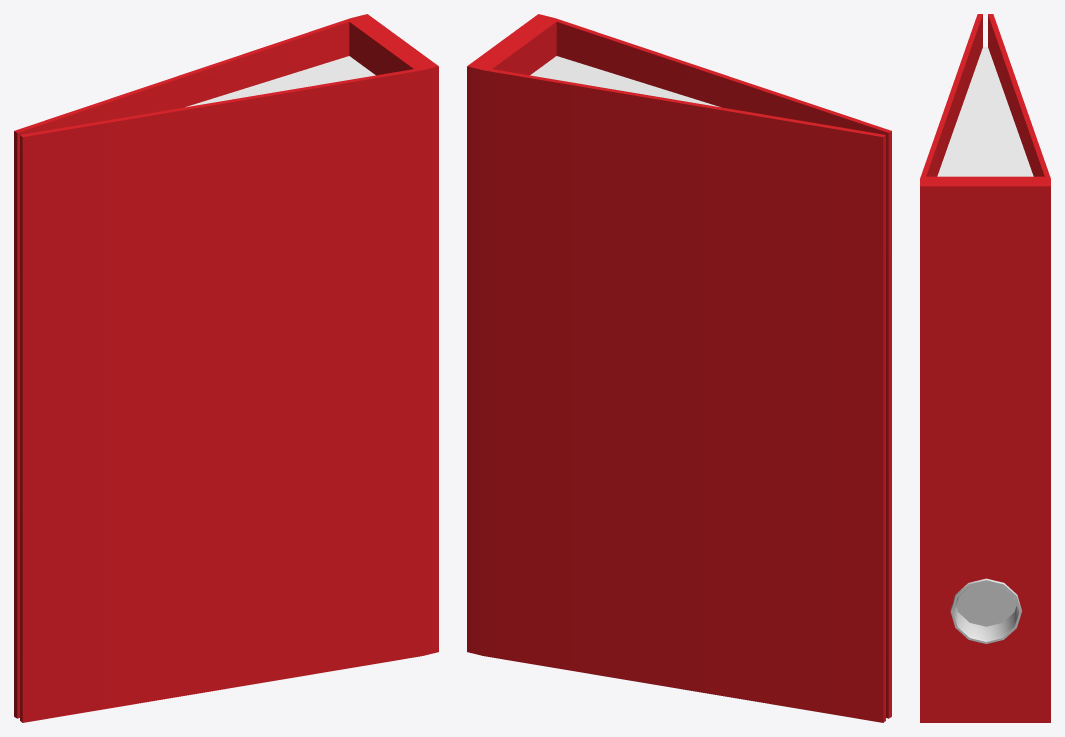
Rendered from Carpeta01.fbx.
The picture shows the model from 3 angles, left to right: view 1: azimuth 30°, elevation 25°; view 2: azimuth 150°, elevation 25°; view 3: azimuth 270°, elevation 25°; orthographic projection. The views are drawn at different scales.
Visible parts, largest first — view 1: Carpeta01; view 2: Carpeta01; view 3: Carpeta01.
Boxes of the visible parts, <box> form: Carpeta01: <box>14,14,438,722</box>; Carpeta01: <box>467,14,891,722</box>; Carpeta01: <box>920,14,1050,722</box>.
Size of the model in its own units: 34.66 by 50.08 by 11.07.
